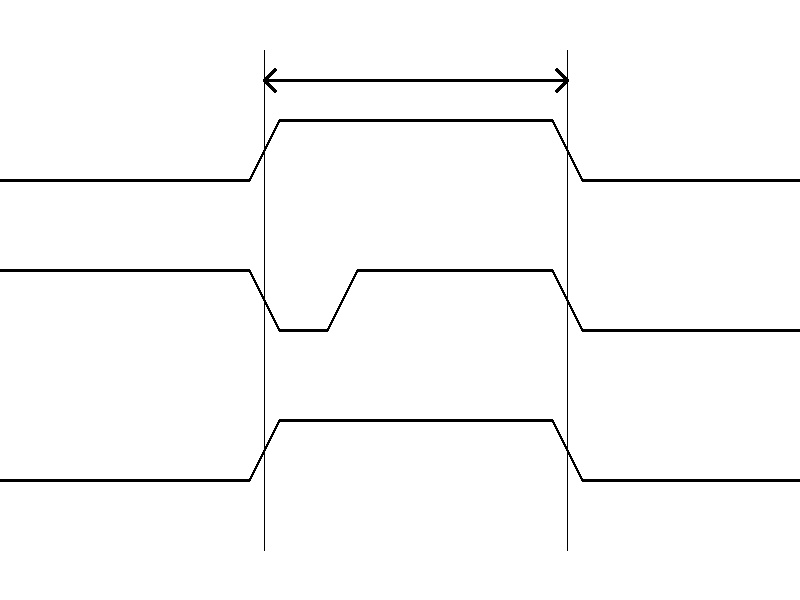double_arrow: (264, 65, 567, 95)
